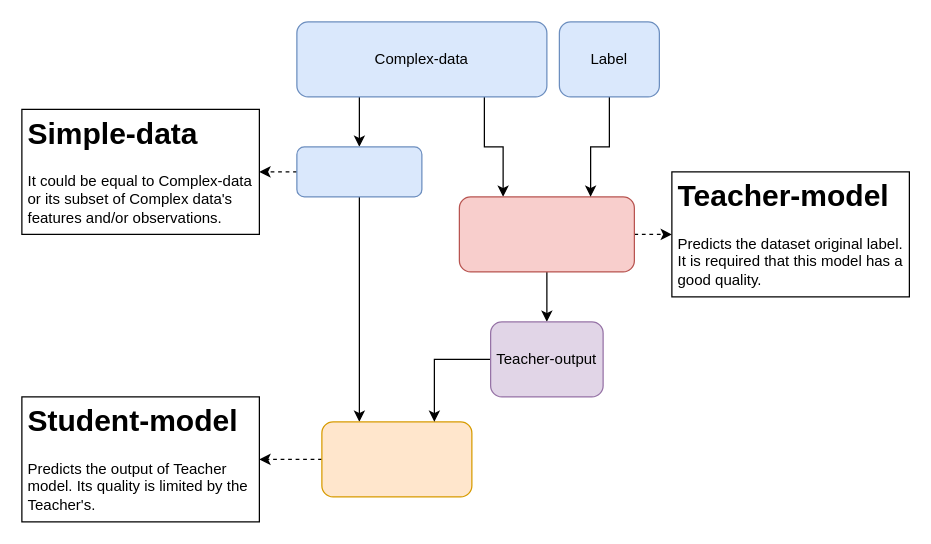
This 931x544 diagram has some shape labels left out. Here are the shapes that lost their labels. From the top down, the box of each, then its label:
(296, 146, 422, 197): Simple-data
(458, 196, 634, 272): Teacher-model
(321, 421, 472, 497): Student-model
